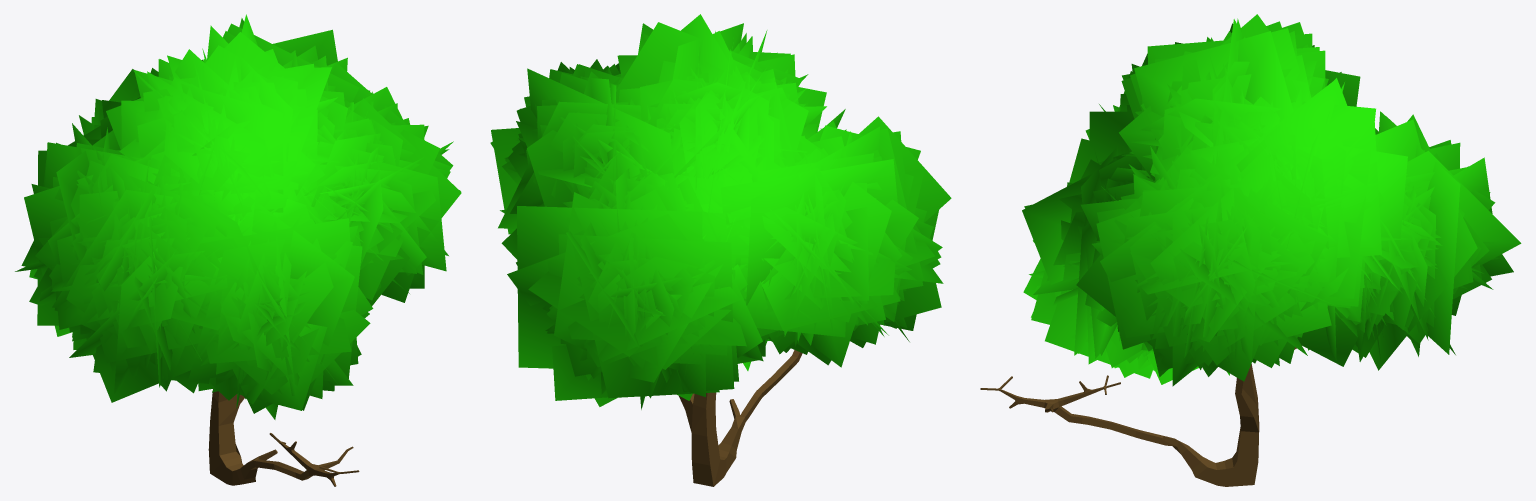
The model's file is treeRiver2.fbx.
3 views of the same model, side by side, from view 1: azimuth 30°, elevation 25°; view 2: azimuth 150°, elevation 25°; view 3: azimuth 270°, elevation 25° (orthographic). The views are drawn at different scales.
Visible parts, largest first — view 1: Leaves; view 2: Leaves; view 3: Leaves.
Part boxes in pixels (box(x1,y1,x2,y2)): Leaves: box(15, 14, 461, 486); Leaves: box(490, 14, 951, 486); Leaves: box(980, 14, 1521, 486).
Size of the model in its own units: 2281 by 2429 by 2537.
